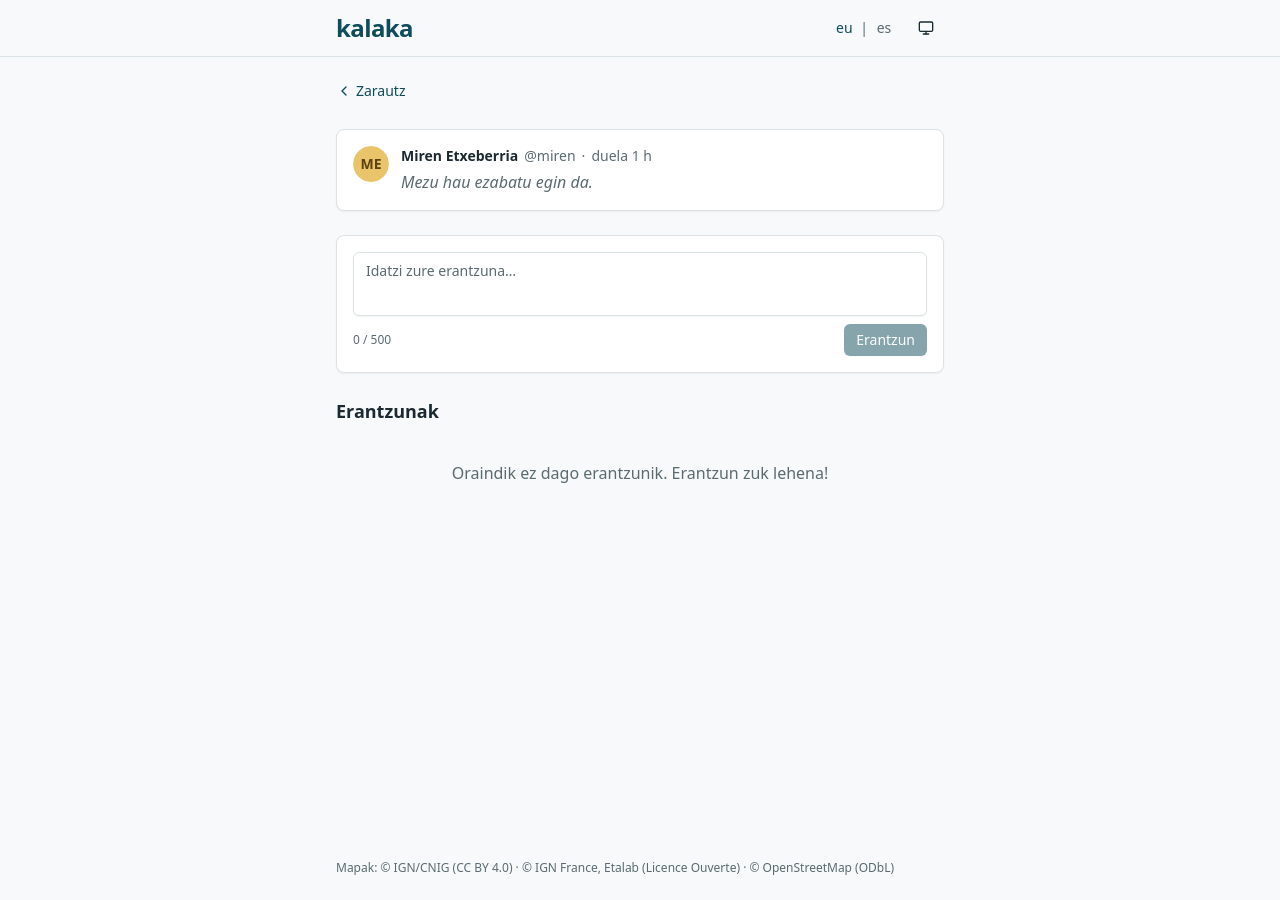
Test case: post page › lets you reply to a deleted post
Expected: the text "Mezu hau ezabatu egin da." is shown, [401, 171, 593, 193]
Expected: the text "Miren Etxeberria" is shown, [401, 146, 518, 166]
In the text box named "Idatzi erantzun bat": (640, 284) [353, 252, 927, 316], type "Zer zen?"
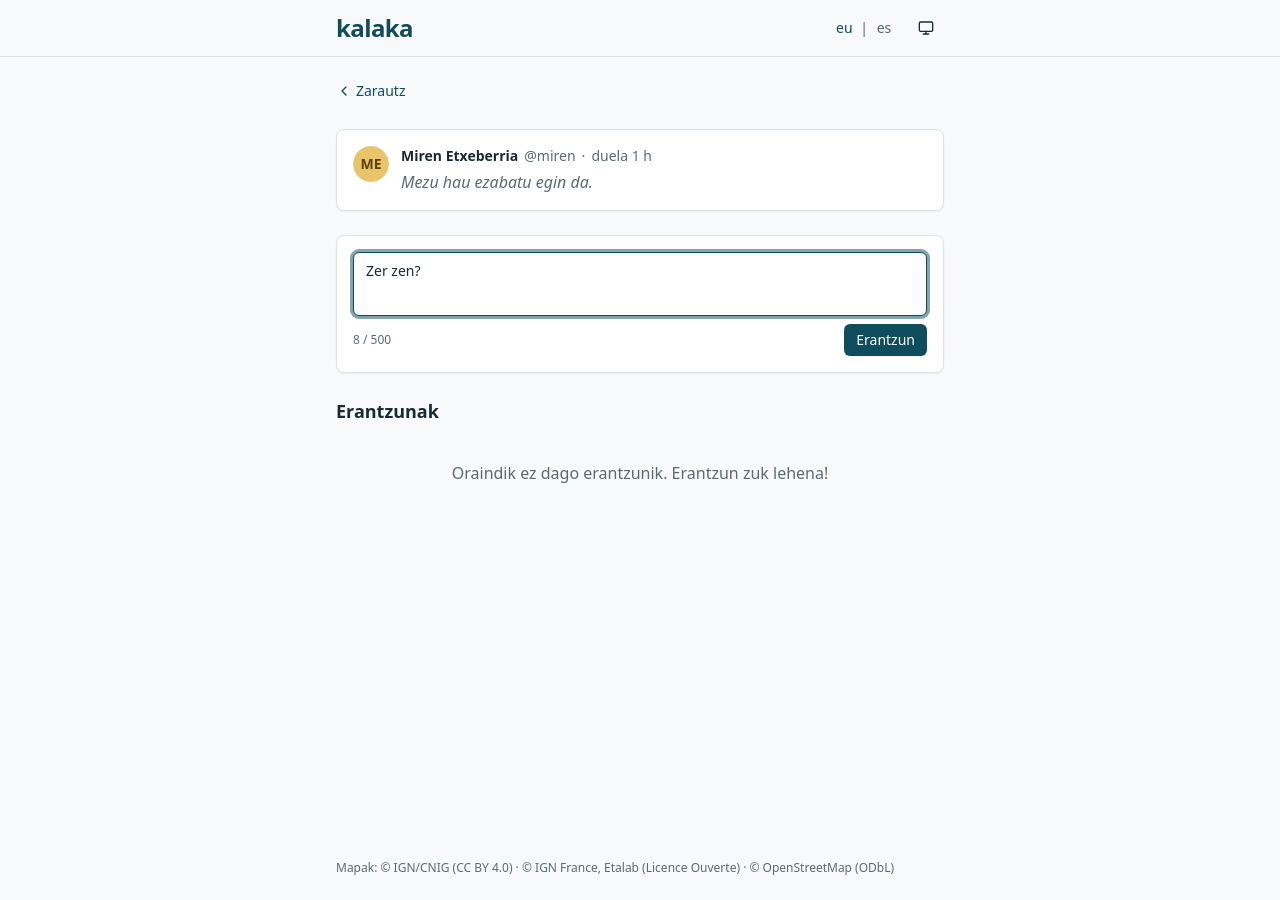
Click the button "Erantzun": click(886, 340) [844, 324, 927, 356]
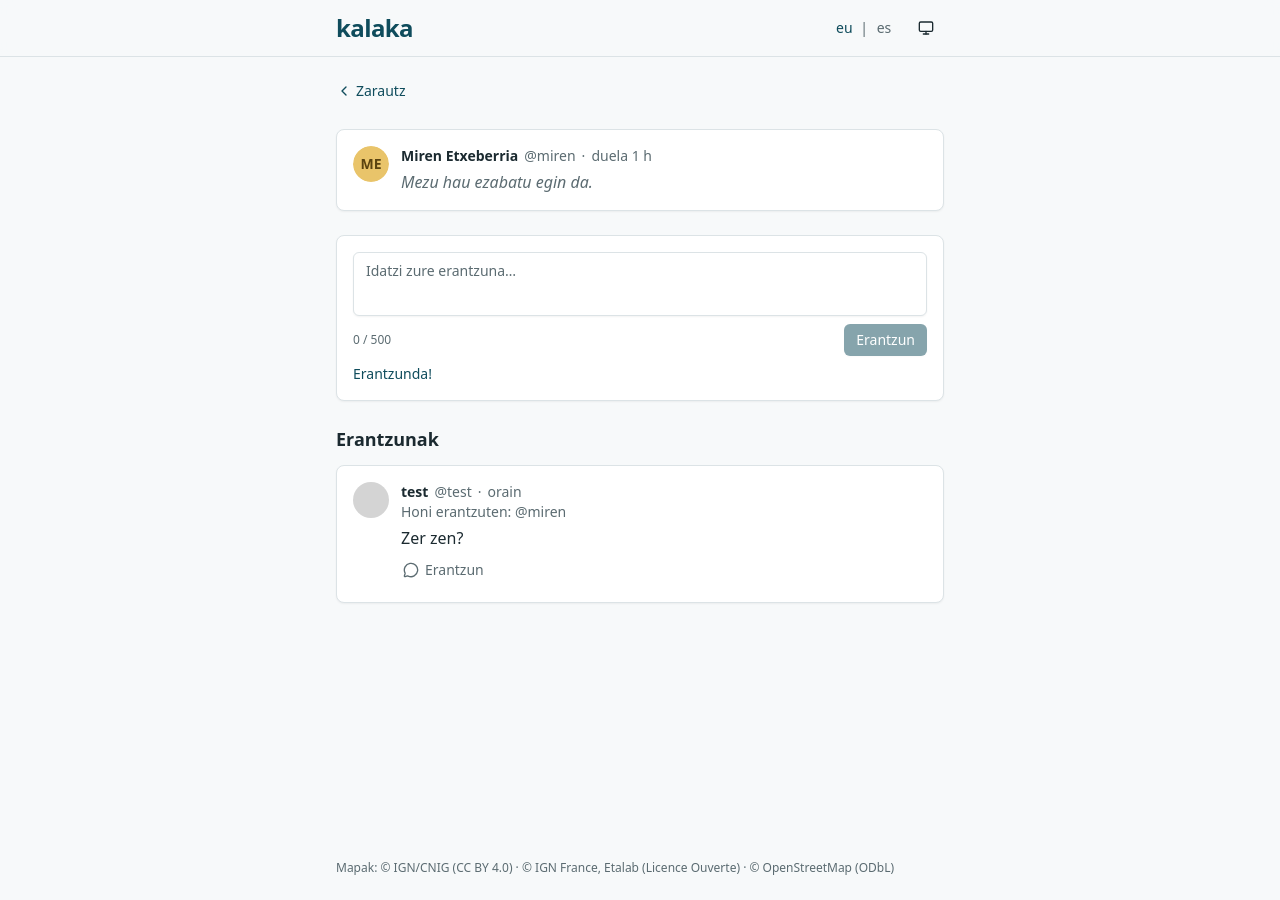
Expected: the text "Zer zen?" is shown, [401, 527, 463, 549]
